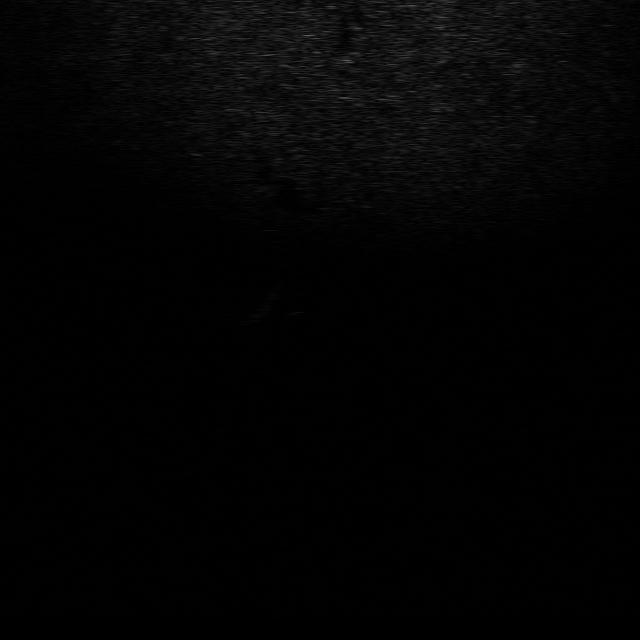human body: (240, 276, 288, 325)
